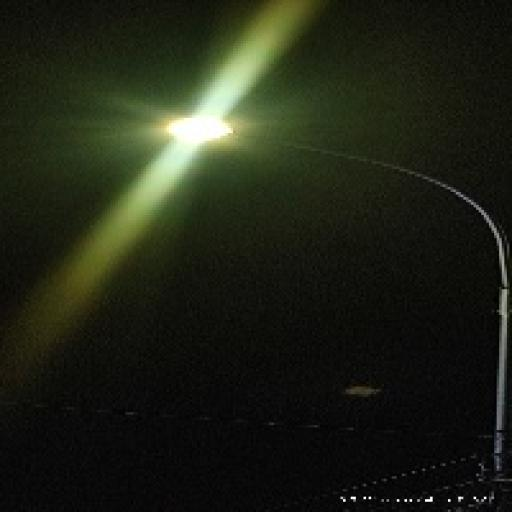Working: (160, 108, 248, 149)
